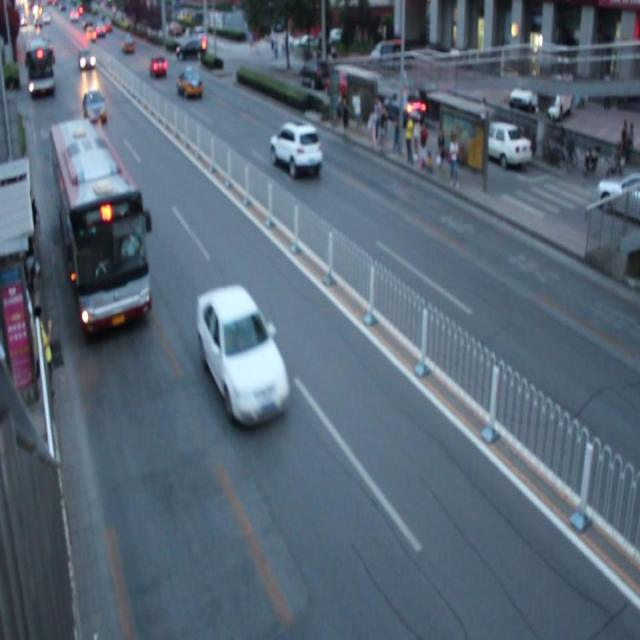car: (195, 280, 288, 425), (269, 120, 322, 177), (178, 68, 203, 103), (84, 90, 108, 126)
van: (50, 121, 150, 332)
